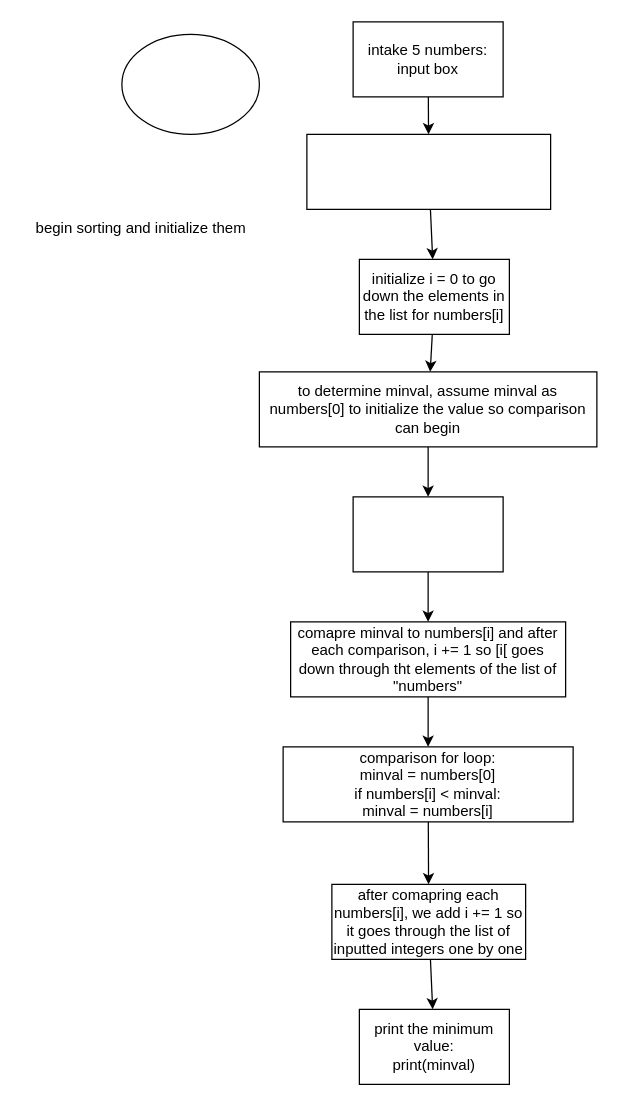
Some shapes in this 619 by 1106 pixel diagram are drawn without their labels. Each missing label, with the centre of its shape:
minval = numbers[0]: pixel 427 534
put into list with an index size preset to [4] or alternativlely [0] * 5: pixel 428 171
when the list is full, the max list size in the list named "numbers": pixel 190 83
